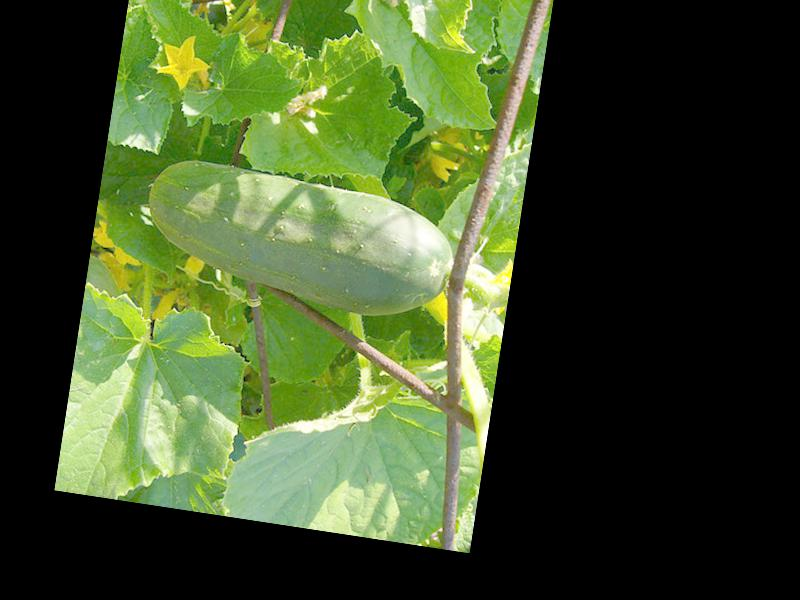Cucumber: (135, 153, 461, 329)
